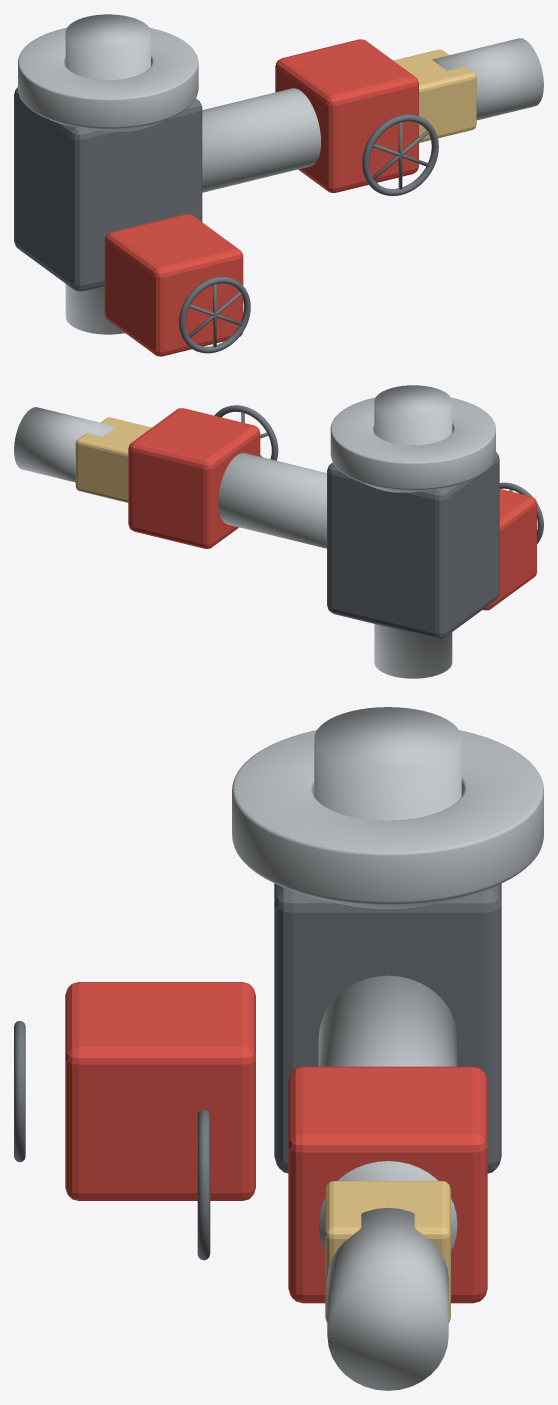
The model's file is horizontal-tree.glb.
3 views of the same model, one above another, from view 1: azimuth 30°, elevation 25°; view 2: azimuth 150°, elevation 25°; view 3: azimuth 270°, elevation 25° (orthographic). The views are drawn at different scales.
Parts seen in each view (by area): view 1: Horizontal tree block, Crossover valve, Wing gate, Crown plug cap, Production wing, Vertical bore, Flowline hub, Side choke body, Horizontal wing wheel, Crossover wheel; view 2: Horizontal tree block, Wing gate, Crown plug cap, Production wing, Vertical bore, Flowline hub, Side choke body, Crossover valve, Horizontal wing wheel, Crossover wheel; view 3: Crossover valve, Crown plug cap, Horizontal tree block, Wing gate, Flowline hub, Vertical bore, Production wing, Side choke body, Horizontal wing wheel, Crossover wheel.
Boxes of the visible parts, bbox=[...] form: Horizontal tree block: bbox=[14, 87, 202, 291]; Crossover valve: bbox=[104, 214, 243, 356]; Wing gate: bbox=[275, 39, 418, 192]; Crown plug cap: bbox=[18, 27, 198, 131]; Production wing: bbox=[202, 88, 320, 192]; Vertical bore: bbox=[65, 14, 150, 334]; Flowline hub: bbox=[432, 38, 543, 120]; Side choke body: bbox=[393, 49, 476, 142]; Horizontal wing wheel: bbox=[362, 114, 438, 195]; Crossover wheel: bbox=[179, 276, 250, 353]; Horizontal tree block: bbox=[327, 452, 499, 639]; Wing gate: bbox=[128, 408, 260, 548]; Crown plug cap: bbox=[330, 397, 495, 492]; Production wing: bbox=[218, 453, 326, 548]; Vertical bore: bbox=[374, 385, 452, 678]; Flowline hub: bbox=[14, 407, 116, 482]; Side choke body: bbox=[75, 417, 151, 502]; Crossover valve: bbox=[483, 489, 536, 610]; Horizontal wing wheel: bbox=[214, 405, 278, 460]; Crossover wheel: bbox=[499, 482, 543, 543]; Crossover valve: bbox=[65, 982, 255, 1200]; Crown plug cap: bbox=[232, 730, 543, 908]; Horizontal tree block: bbox=[274, 883, 501, 1173]; Wing gate: bbox=[288, 1066, 487, 1303]; Flowline hub: bbox=[327, 1207, 448, 1390]; Vertical bore: bbox=[314, 707, 461, 820]; Production wing: bbox=[318, 975, 457, 1251]; Side choke body: bbox=[325, 1181, 450, 1322]; Horizontal wing wheel: bbox=[197, 1109, 210, 1260]; Crossover wheel: bbox=[14, 1021, 25, 1162].
Size of the model in its own units: 4.57 by 2.5 by 2.45.
